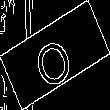O_NW: (31, 23, 79, 87)
